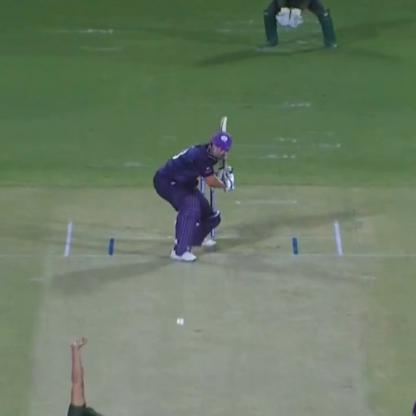ball: (174, 316, 189, 327)
bat: (212, 111, 240, 190)
pitch: (33, 215, 375, 415)
